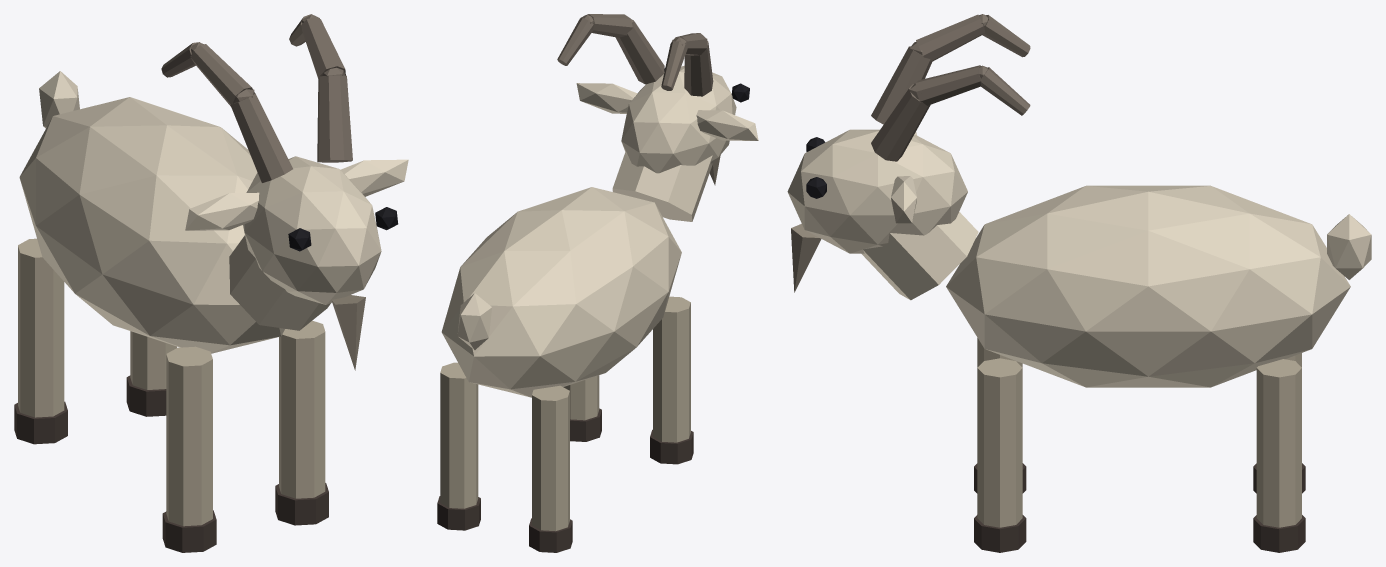
The model's file is Goat.fbx.
The picture shows the model from 3 angles, left to right: view 1: azimuth 30°, elevation 25°; view 2: azimuth 150°, elevation 25°; view 3: azimuth 270°, elevation 25°; orthographic projection. The views are drawn at different scales.
Visible parts, largest first — view 1: Fur, Legs, Horns, Hooves, Beard, Eyes; view 2: Fur, Legs, Horns, Hooves; view 3: Fur, Legs, Horns, Hooves, Beard.
Boxes of the visible parts, box(x1,y1,x2,y2) form: Fur: box(19, 71, 408, 353); Legs: box(18, 238, 325, 526); Horns: box(161, 14, 352, 182); Hooves: box(14, 375, 328, 552); Beard: box(331, 295, 365, 370); Eyes: box(288, 207, 398, 251); Fur: box(441, 65, 758, 397); Legs: box(440, 296, 690, 531); Horns: box(557, 14, 713, 96); Hooves: box(437, 408, 693, 552); Fur: box(787, 129, 1371, 387); Legs: box(977, 338, 1301, 527); Horns: box(871, 14, 1030, 161); Hooves: box(974, 463, 1305, 552); Beard: box(791, 223, 821, 292).
Bounding box in the file's own units: 1.39 × 3.01 × 3.35.
